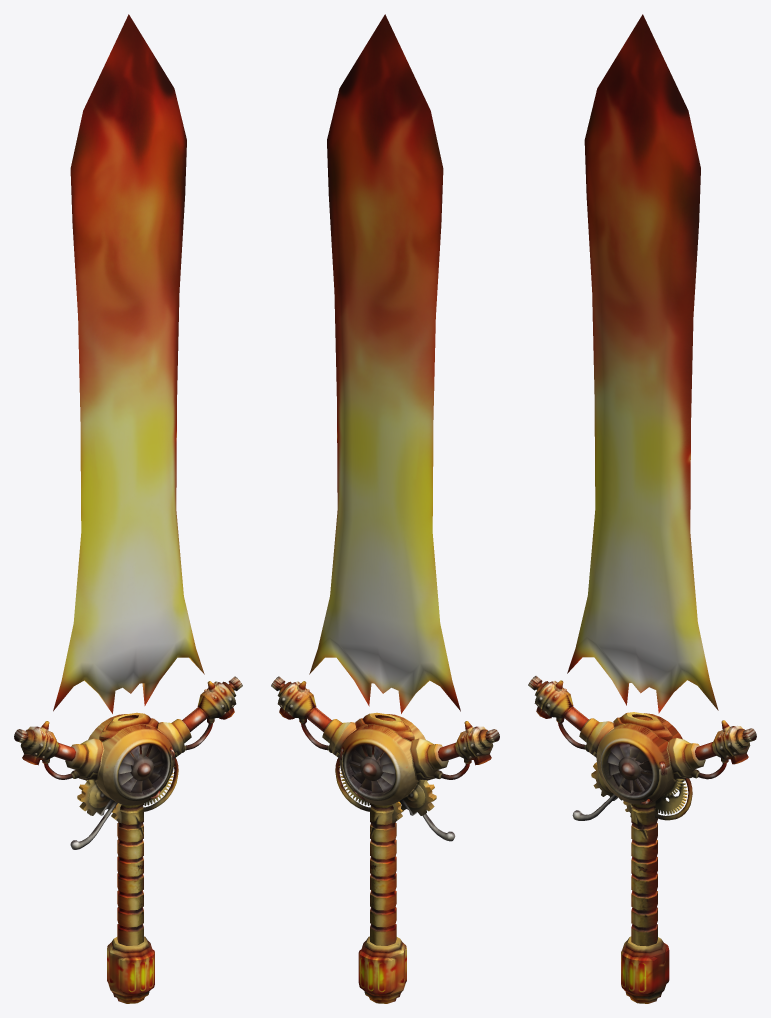
File: sm_sword_101.gltf
3 views of the same model, side by side, from view 1: azimuth 30°, elevation 25°; view 2: azimuth 150°, elevation 25°; view 3: azimuth 330°, elevation 25° (orthographic).
Visible parts, largest first — view 1: sm_sword_101; view 2: sm_sword_101; view 3: sm_sword_101.
Boxes of the visible parts, box(x1,y1,x2,y2) form: sm_sword_101: box(14, 14, 242, 1003); sm_sword_101: box(271, 14, 499, 1003); sm_sword_101: box(528, 14, 756, 1003).
Size of the model in its own units: 0.3766 by 1.57 by 0.0981.
1 material, 1 textured.
